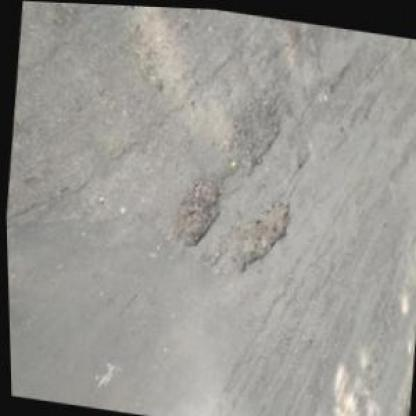pothole: (219, 85, 284, 183), (225, 190, 294, 281), (165, 169, 225, 251)
